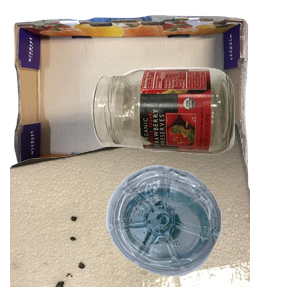cardboard: (11, 13, 251, 182)
glass: (89, 65, 300, 212)
plastic: (104, 163, 300, 300)
trash: (10, 120, 250, 300)
